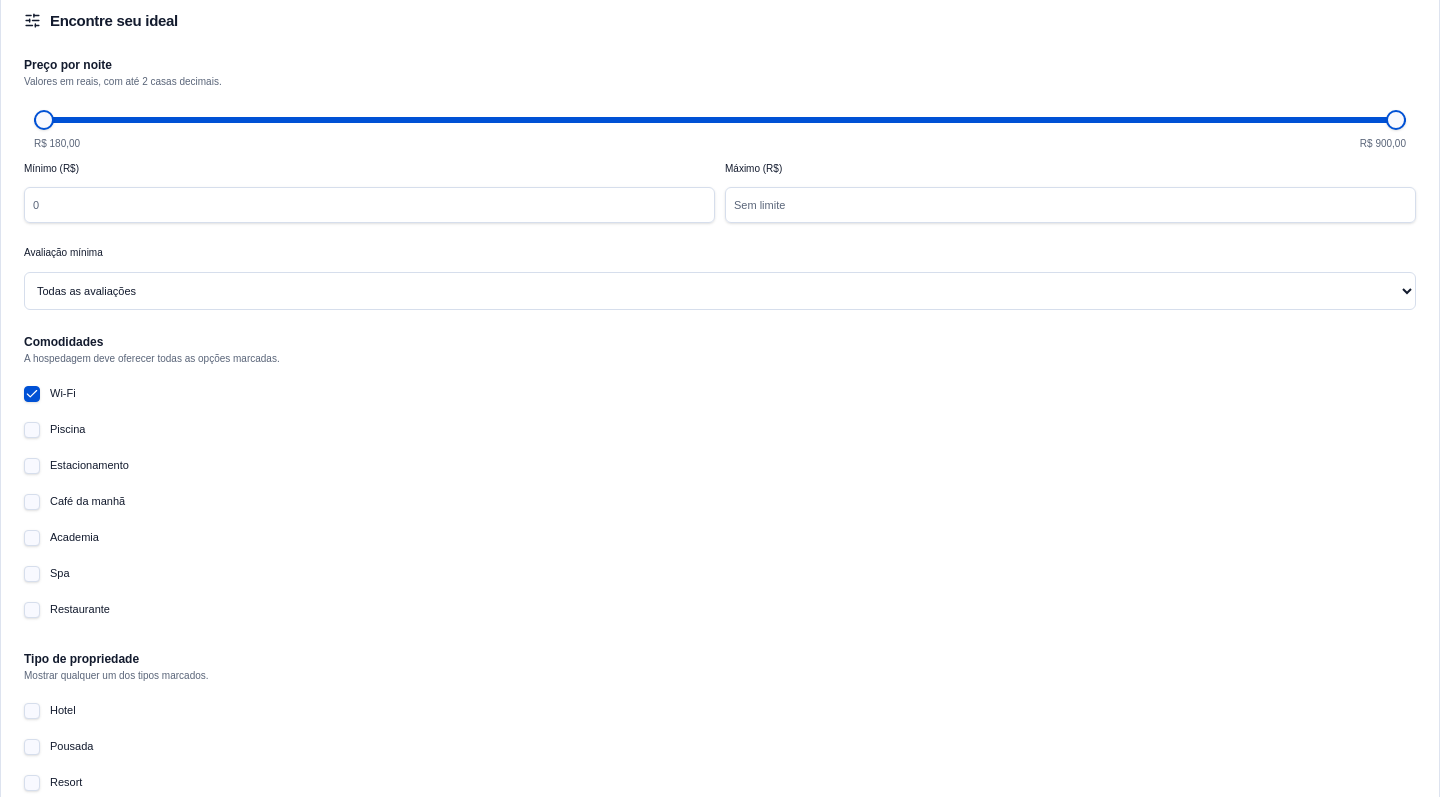
Test: preserva preço fora da escala e bloqueia faixa invertida sem perder seleções
Type "4000" into the number field labelled "Mínimo (R$)" at (370, 205), box [24, 187, 715, 223]
(page scrolled)
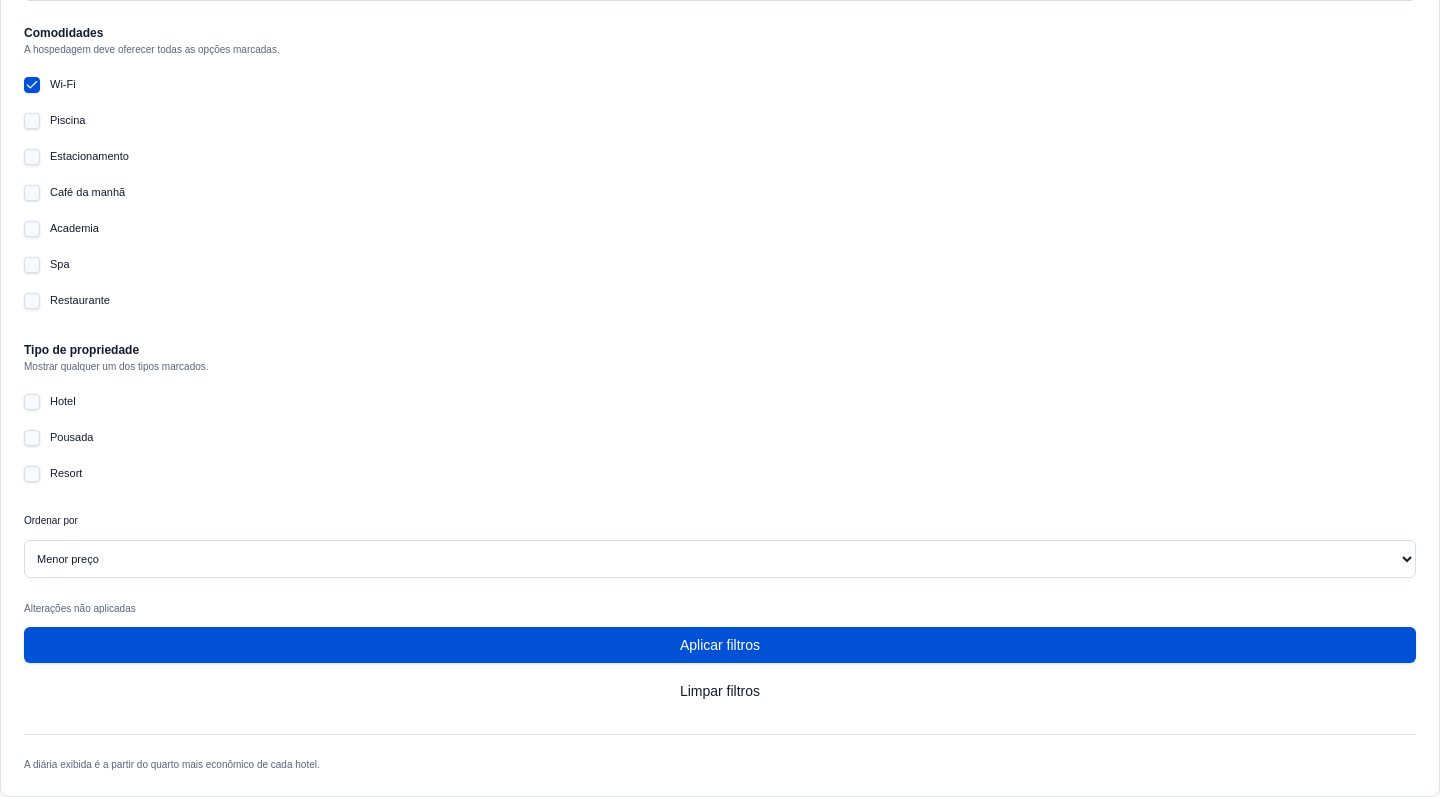
Click the button "Aplicar filtros" at (720, 645), box [24, 627, 1416, 663]
(page scrolled)
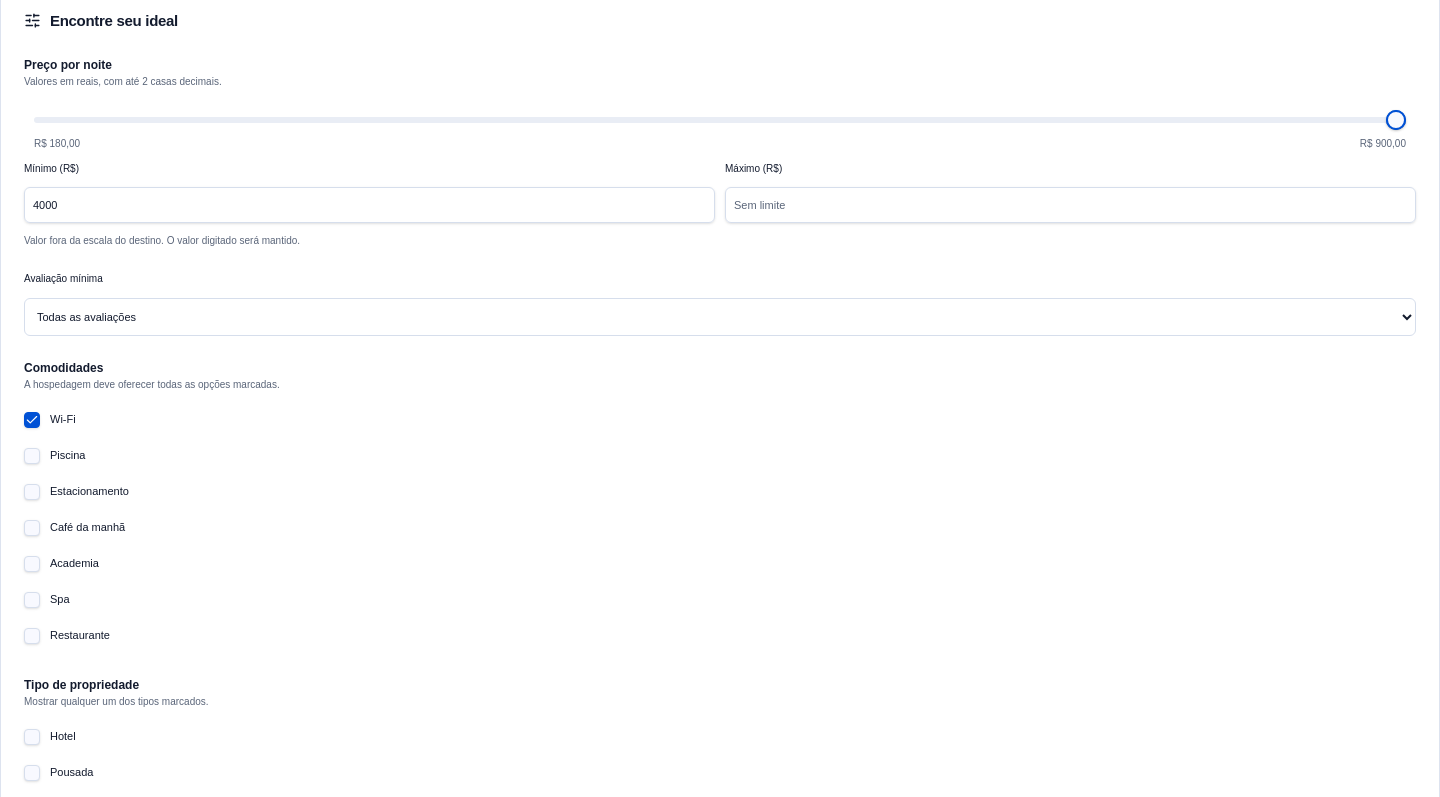
Type "200" into the number field labelled "Máximo (R$)" at (1070, 205), box [725, 187, 1416, 223]
(page scrolled)
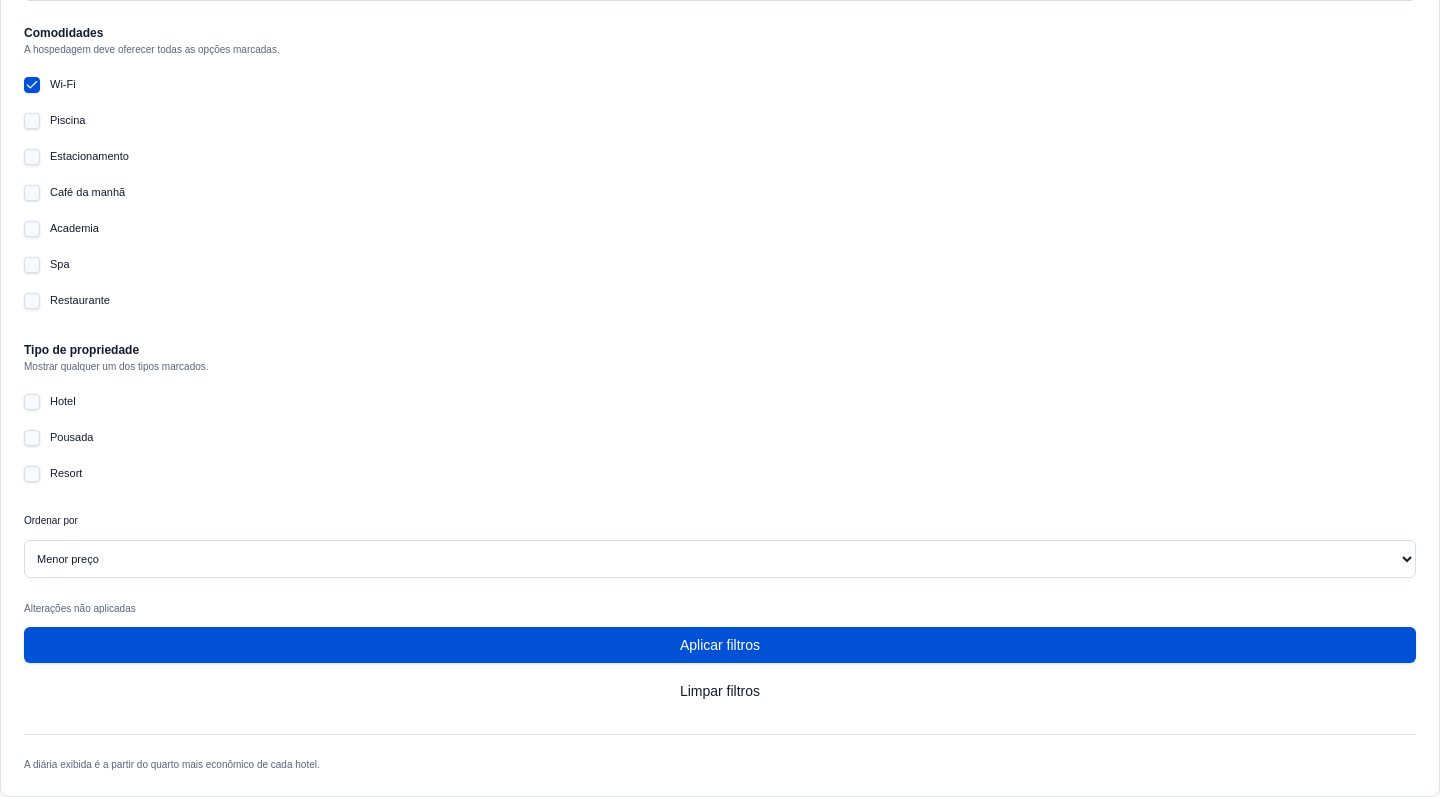
Click the button "Aplicar filtros" at (720, 645), box [24, 627, 1416, 663]
(page scrolled)
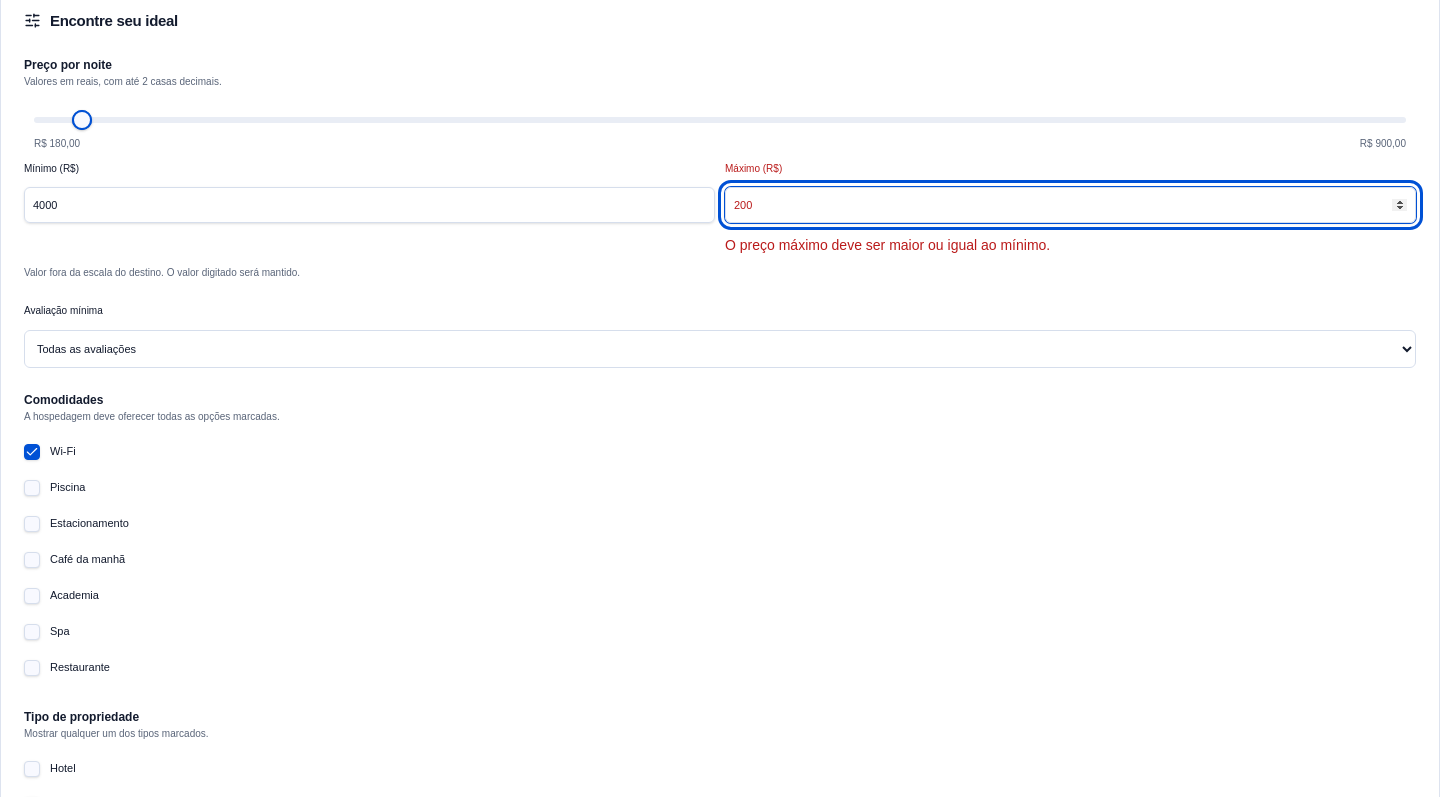
Check: the checkbox named "Wi-Fi" next to "Wi-Fi" is checked, box [24, 444, 40, 460]
Check: the text "O preço máximo deve ser maior ou igual ao mínimo." is shown, box [725, 237, 1050, 253]
